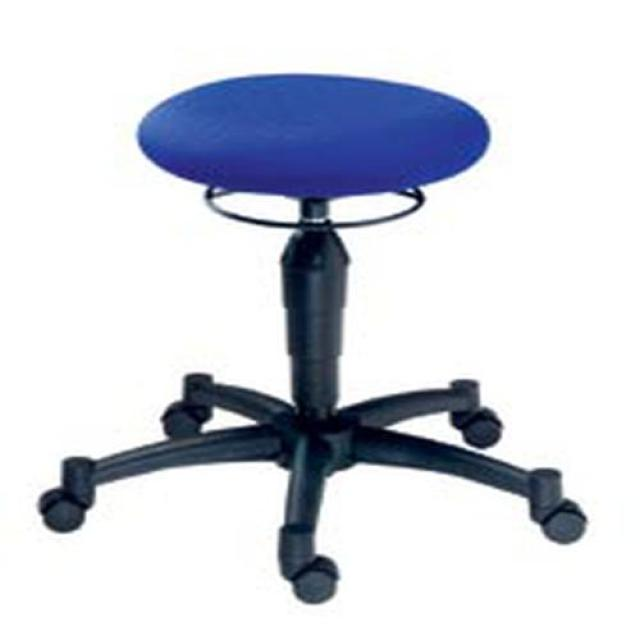swivelchair: (37, 74, 589, 608)
